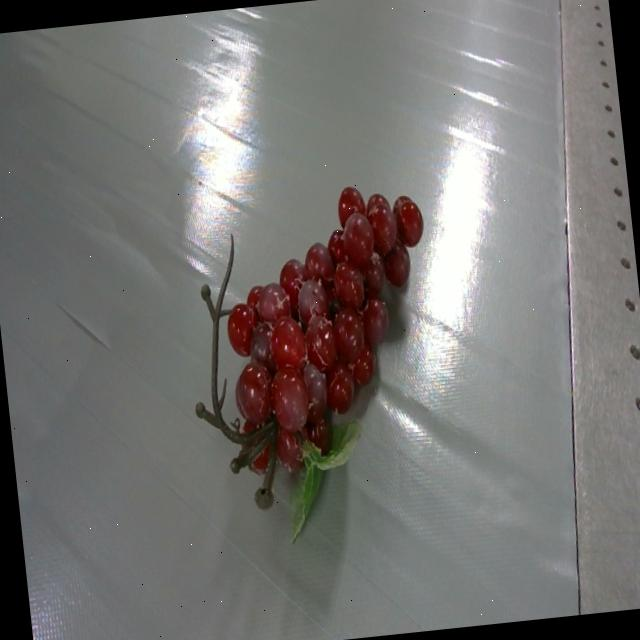grape: (195, 187, 422, 540)
